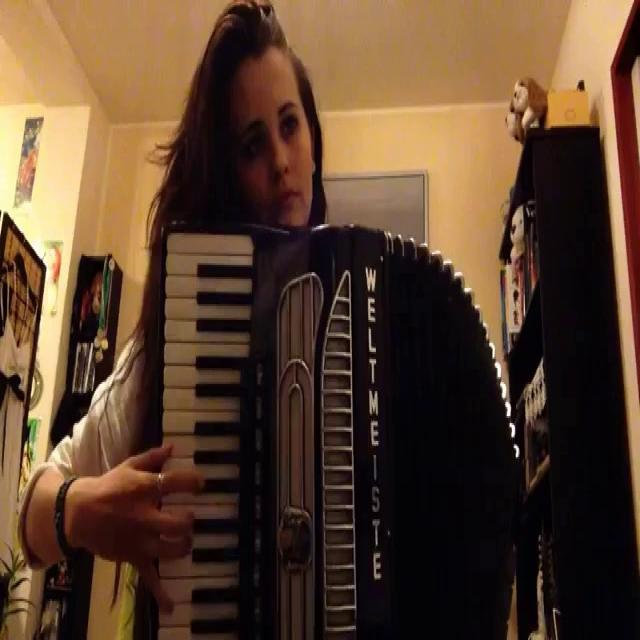Accordion: (156, 217, 517, 640)
